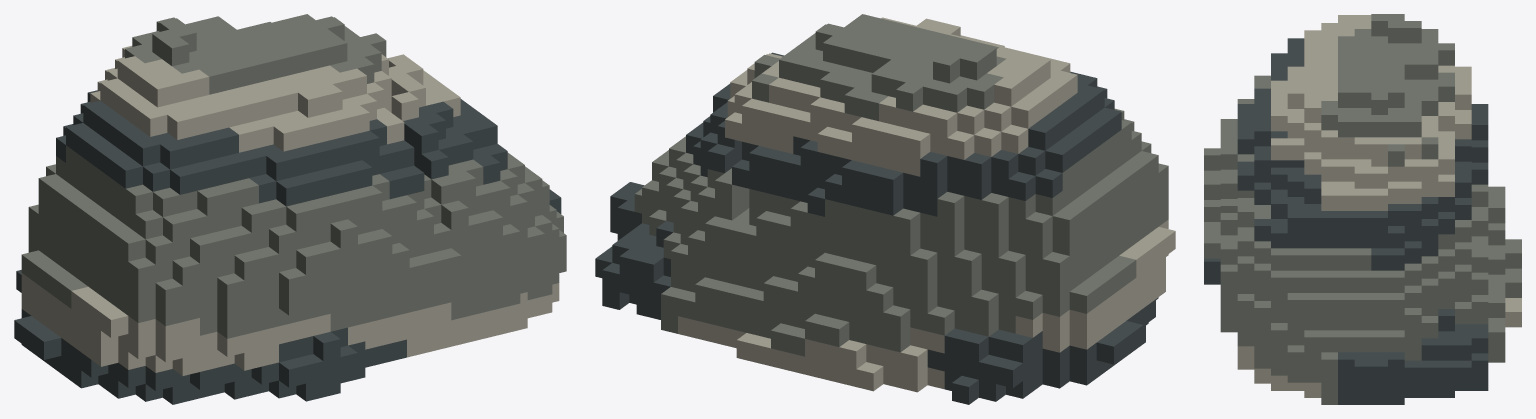
File: layered_rock_v2_near.glb
The picture shows the model from 3 angles, left to right: view 1: azimuth 30°, elevation 25°; view 2: azimuth 150°, elevation 25°; view 3: azimuth 270°, elevation 25°; orthographic projection. The views are drawn at different scales.
Visible parts, largest first — view 1: layered_rock_v2_near; view 2: layered_rock_v2_near; view 3: layered_rock_v2_near.
Boxes of the visible parts, <box> form: layered_rock_v2_near: <box>14,14,566,404</box>; layered_rock_v2_near: <box>595,14,1175,404</box>; layered_rock_v2_near: <box>1204,14,1521,404</box>.
Bounding box in the file's own units: 3.75 × 2 × 2.38.
1 material, 1 textured.
